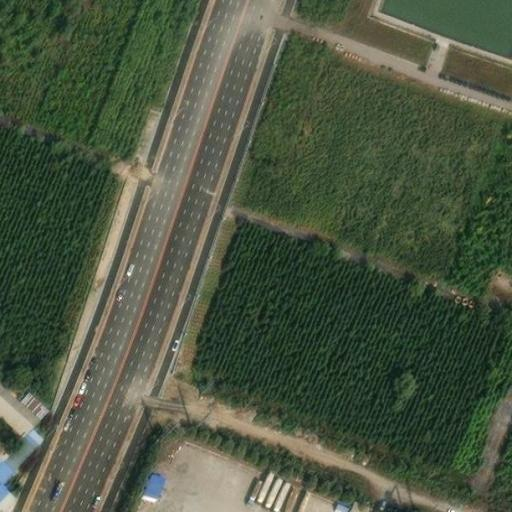building: (0, 377, 53, 443), (138, 468, 168, 501), (331, 497, 354, 512)
